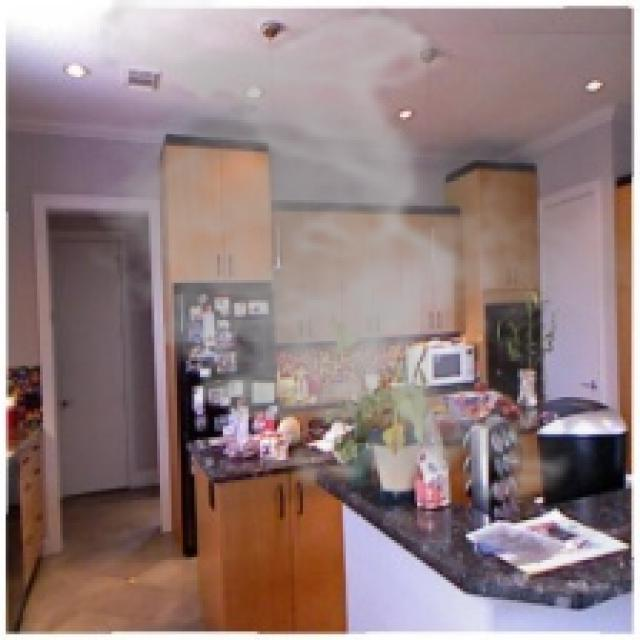Smoke: (75, 0, 634, 520)
